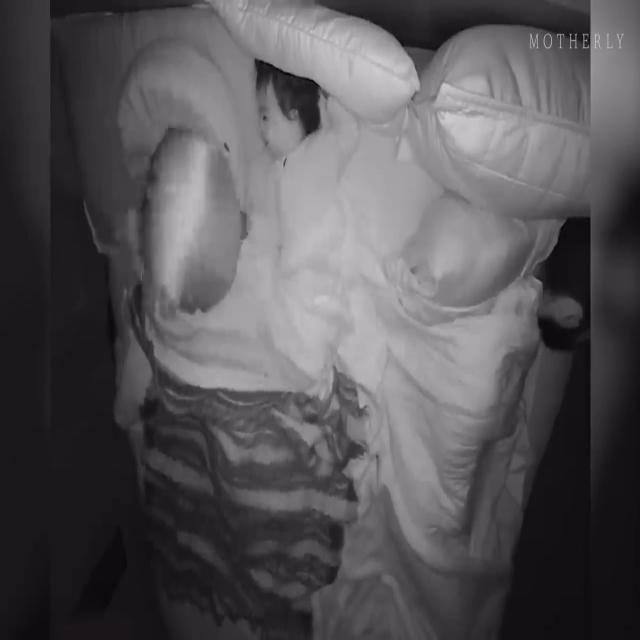baby: (239, 57, 358, 224)
